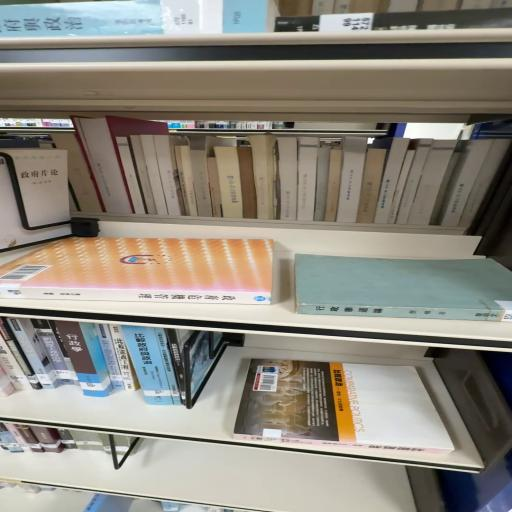flat: (234, 359, 455, 454), (1, 239, 274, 306), (296, 255, 512, 323)
